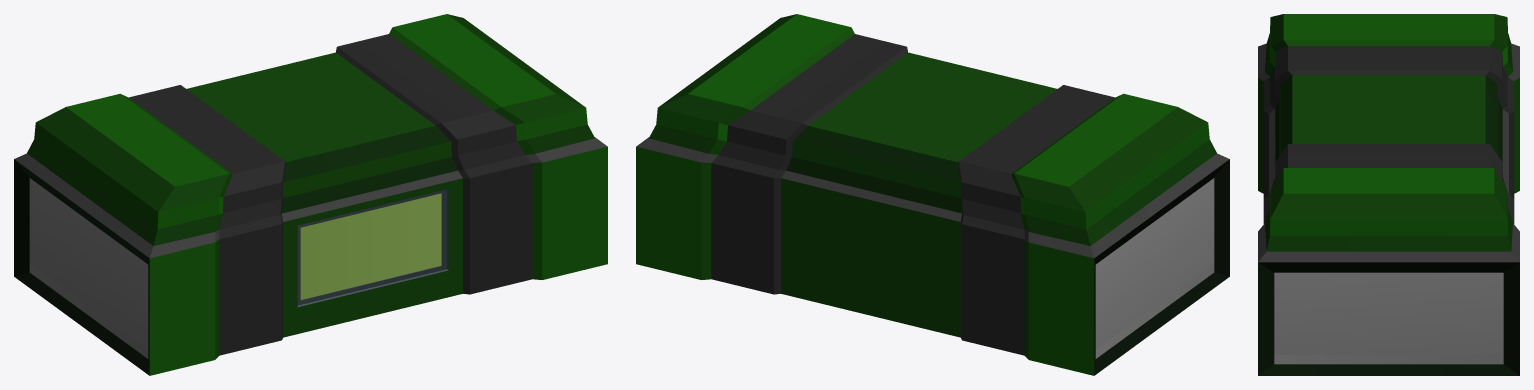
Rendered from Future Small Crate Green.fbx.
The picture shows the model from 3 angles, left to right: view 1: azimuth 30°, elevation 25°; view 2: azimuth 150°, elevation 25°; view 3: azimuth 270°, elevation 25°; orthographic projection. The views are drawn at different scales.
Parts seen in each view (by area): view 1: Future Small Crate Green; view 2: Future Small Crate Green; view 3: Future Small Crate Green.
Part boxes in pixels (box(x1,y1,x2,y2)): Future Small Crate Green: box(14, 14, 607, 375); Future Small Crate Green: box(636, 14, 1229, 375); Future Small Crate Green: box(1258, 14, 1519, 375).
Size of the model in its own units: 164 by 237 by 463.
1 material, 1 textured.
